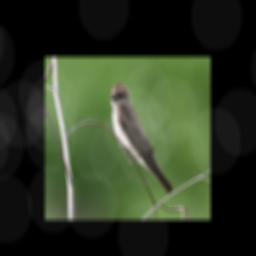Swallow: (110, 82, 176, 194)
